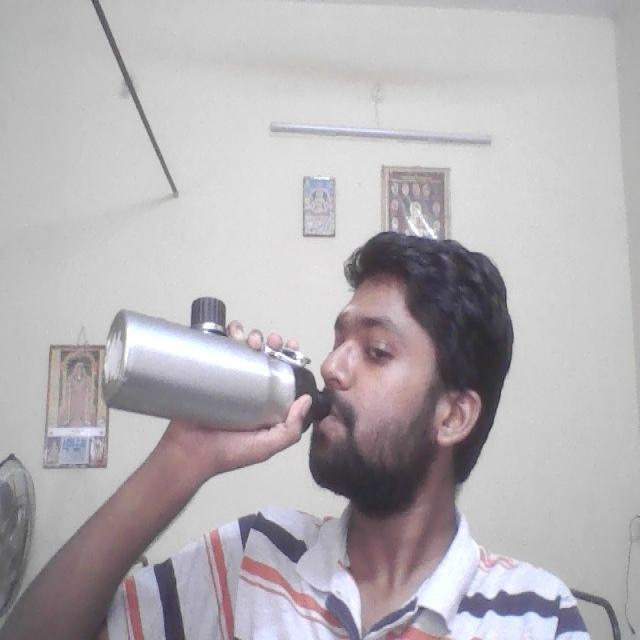Drinking: (95, 289, 338, 435)
